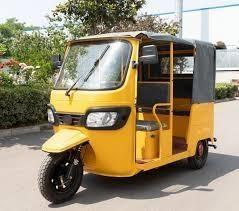keke: (36, 27, 222, 206)
